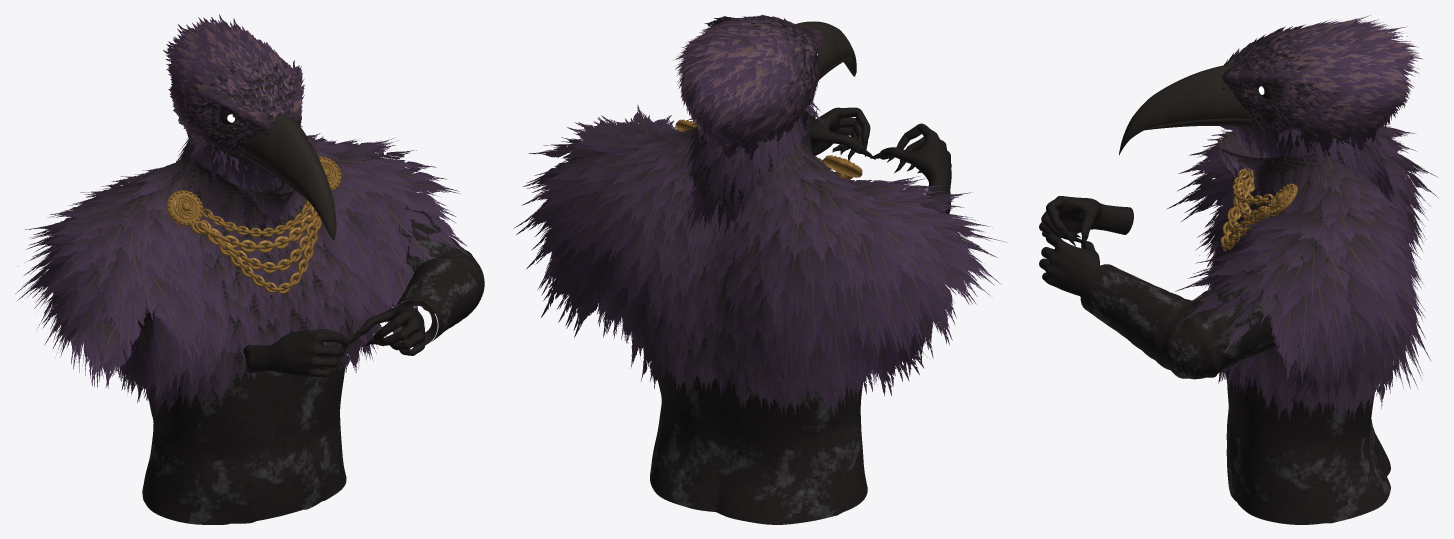
The model's file is crow.glb.
The picture shows the model from 3 angles, left to right: view 1: azimuth 30°, elevation 25°; view 2: azimuth 150°, elevation 25°; view 3: azimuth 270°, elevation 25°; orthographic projection. The views are drawn at different scales.
Parts seen in each view (by area): view 1: Body_Plumes, Body, Body_Feathers, Head_Feathers, Body_Chains, SleeveFore, Beak, Head_Feathers2, Face, Hand_L, Body_Mantle, Hand_R (+4 smaller); view 2: Body_Plumes, Body, Head_Feathers, Head_Feathers2, Body_Neck_Hackles, Hand_L, Hand_R, Beak, Face, Body_Mantle, Head_Hackles, Body_Neck; view 3: Body_Plumes, Body, Head_Feathers, SleeveFore, Head_Feathers2, SleeveUpper, Beak, Face, Hand_L, Body_Neck_Hackles, Head_Hackles, Hand_R (+5 smaller).
Boxes of the visible parts, <box> form: Body_Plumes: <box>15,133,471,417</box>; Body: <box>142,188,346,524</box>; Body_Feathers: <box>194,195,349,381</box>; Head_Feathers: <box>166,14,312,158</box>; Body_Chains: <box>190,199,321,293</box>; SleeveFore: <box>392,252,484,344</box>; Beak: <box>241,112,336,239</box>; Head_Feathers2: <box>163,17,302,157</box>; Face: <box>185,59,300,159</box>; Hand_L: <box>243,329,348,376</box>; Body_Mantle: <box>115,152,365,363</box>; Hand_R: <box>358,306,425,355</box>; Body_Plumes: <box>513,104,1007,417</box>; Body: <box>650,369,867,524</box>; Head_Feathers: <box>675,15,823,150</box>; Head_Feathers2: <box>673,14,821,152</box>; Body_Neck_Hackles: <box>680,102,824,235</box>; Hand_L: <box>880,123,951,213</box>; Hand_R: <box>807,107,870,155</box>; Beak: <box>795,21,856,76</box>; Face: <box>729,17,818,128</box>; Body_Mantle: <box>598,131,915,351</box>; Head_Hackles: <box>696,99,813,162</box>; Body_Neck: <box>694,120,800,203</box>; Body_Plumes: <box>1166,124,1438,421</box>; Body: <box>1226,376,1390,524</box>; Head_Feathers: <box>1184,15,1422,138</box>; SleeveFore: <box>1080,264,1206,379</box>; Head_Feathers2: <box>1228,17,1419,138</box>; SleeveUpper: <box>1172,259,1328,378</box>; Beak: <box>1119,64,1251,155</box>; Face: <box>1222,31,1367,136</box>; Hand_L: <box>1039,196,1133,239</box>; Body_Neck_Hackles: <box>1247,125,1395,208</box>; Head_Hackles: <box>1234,119,1377,166</box>; Hand_R: <box>1039,233,1100,296</box>.
Size of the model in its own units: 1.2 by 1.24 by 0.9802.
Materials: 14 (10 with a texture image).
